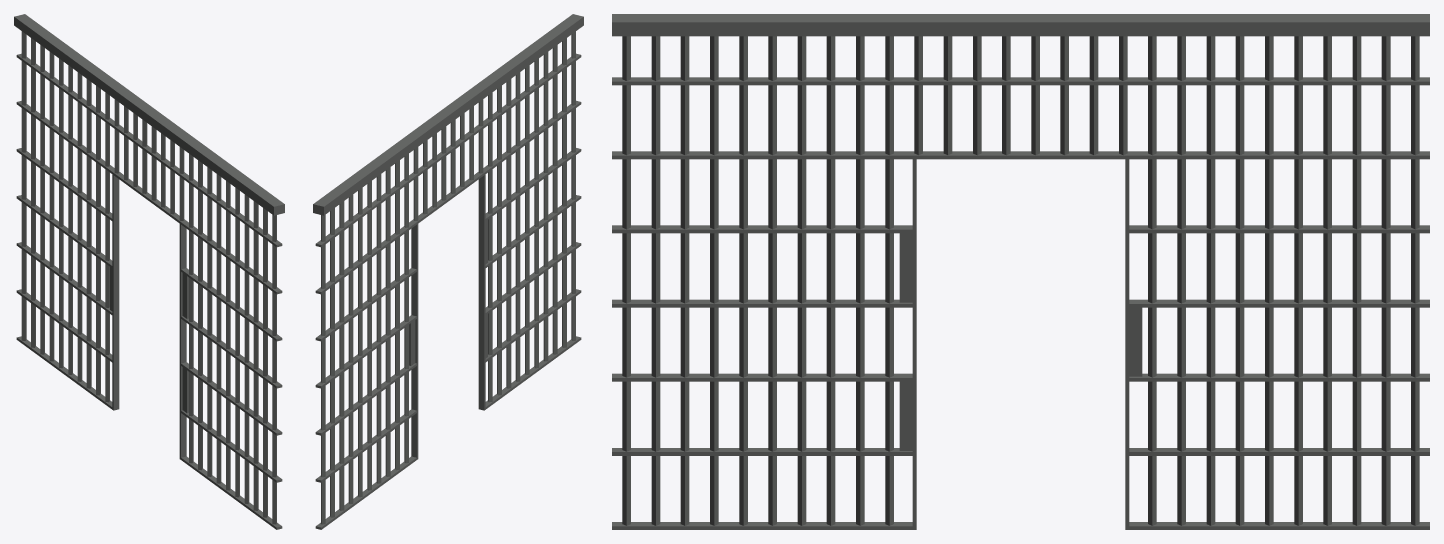
File: SM_bars_01.glb
3 views of the same model, side by side, from view 1: azimuth 30°, elevation 25°; view 2: azimuth 150°, elevation 25°; view 3: azimuth 270°, elevation 25° (orthographic). The views are drawn at different scales.
Visible parts, largest first — view 1: SM_bars_01; view 2: SM_bars_01; view 3: SM_bars_01.
Part boxes in pixels (box(x1,y1,x2,y2)): SM_bars_01: box(14, 14, 284, 529); SM_bars_01: box(313, 14, 583, 529); SM_bars_01: box(612, 14, 1429, 529).
Size of the model in its own units: 0.0971 by 2.75 by 4.
1 material, 1 textured.
